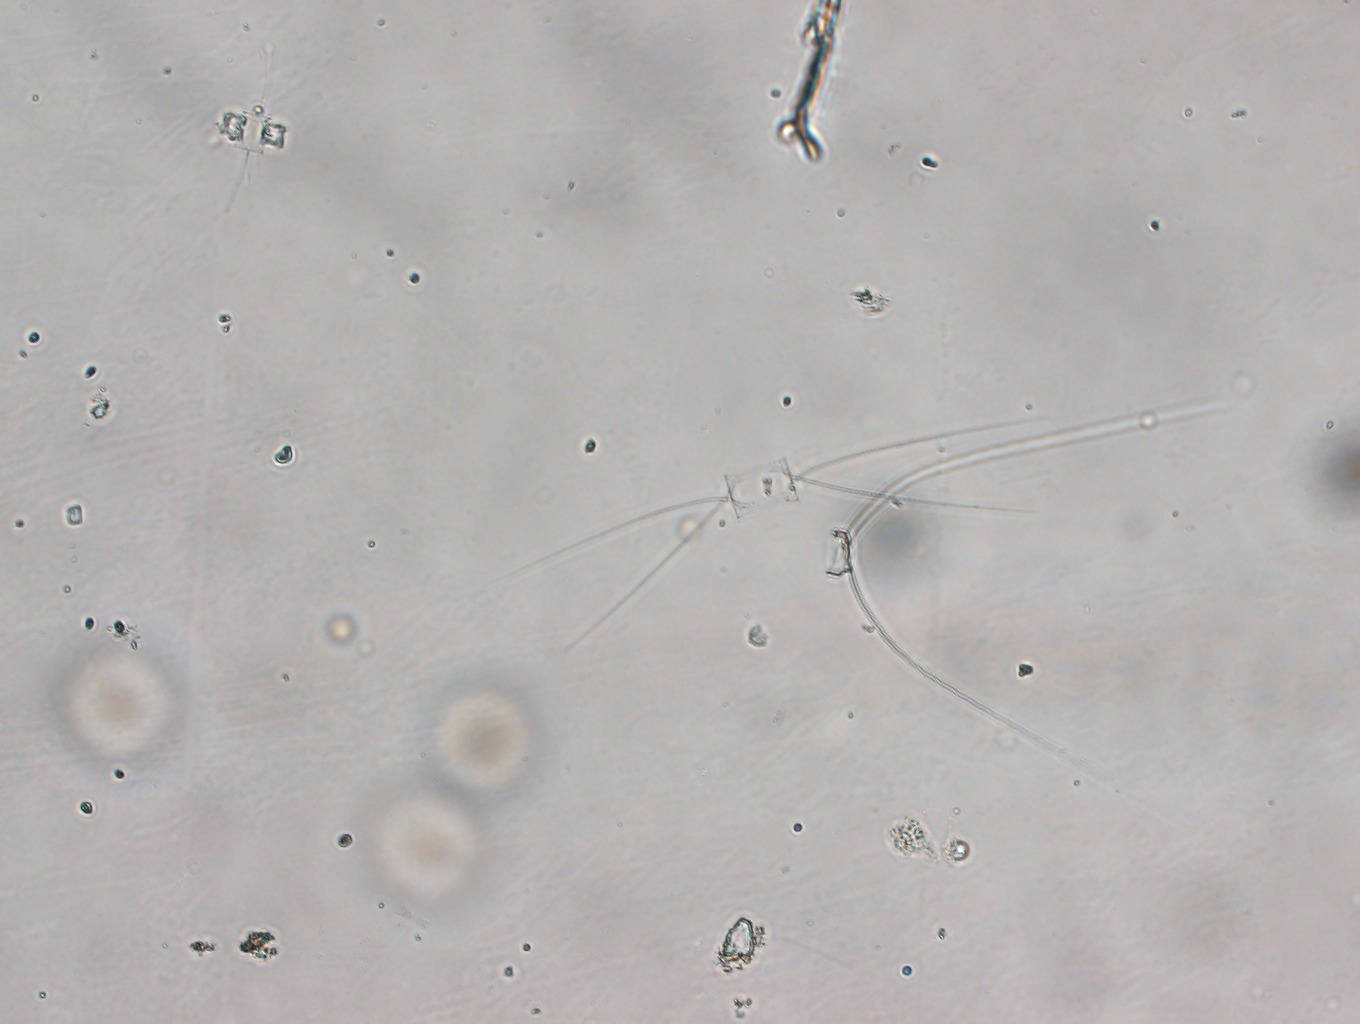chaetoceros: (501, 402, 1066, 656)
